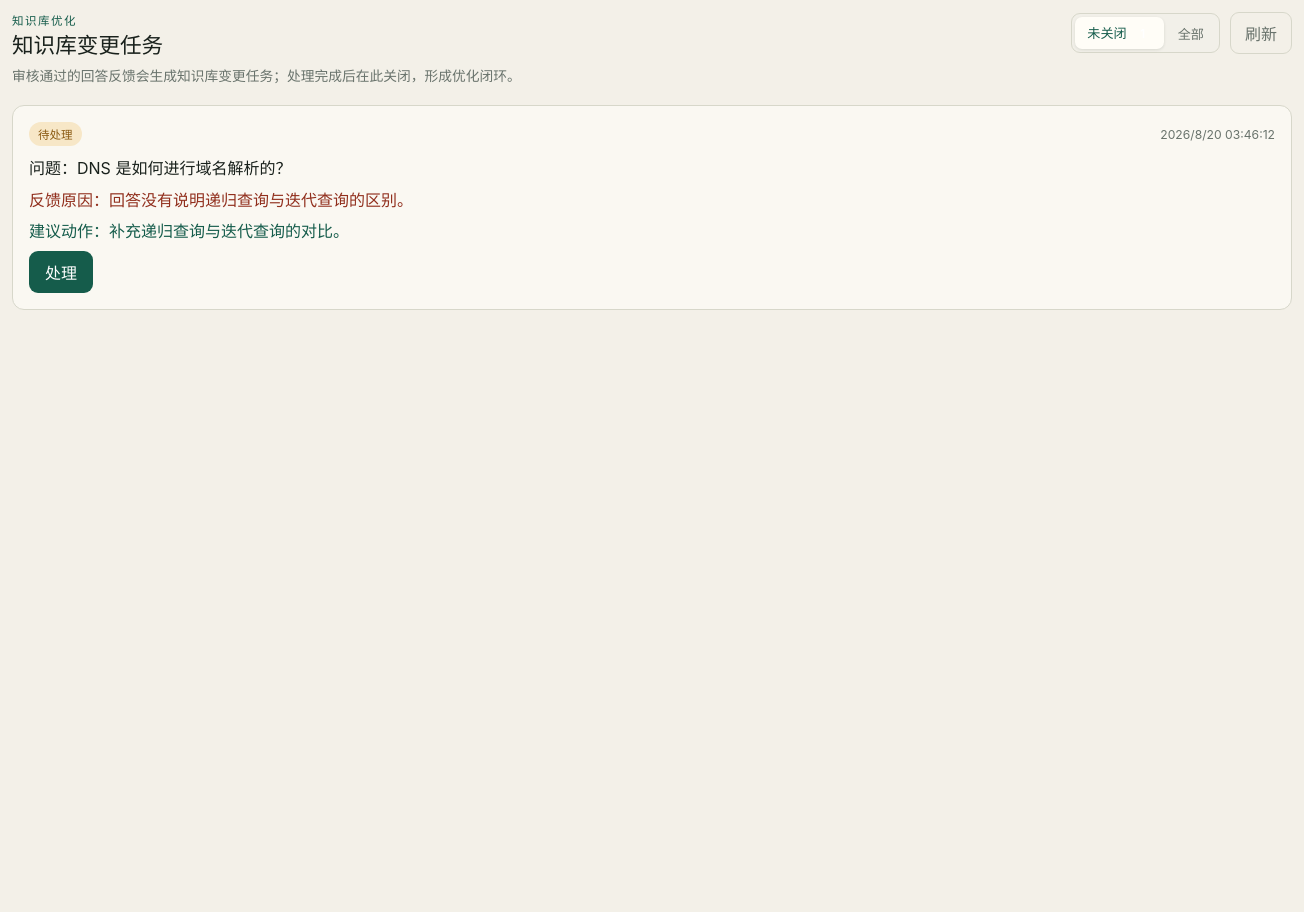
Test: KnowledgeBaseChanges › refuses wont_fix without resolution notes
What coordinates should you click on to do the following:
click the button "处理"
I would click on:
 (61, 272)
Its box is [29, 251, 93, 293].
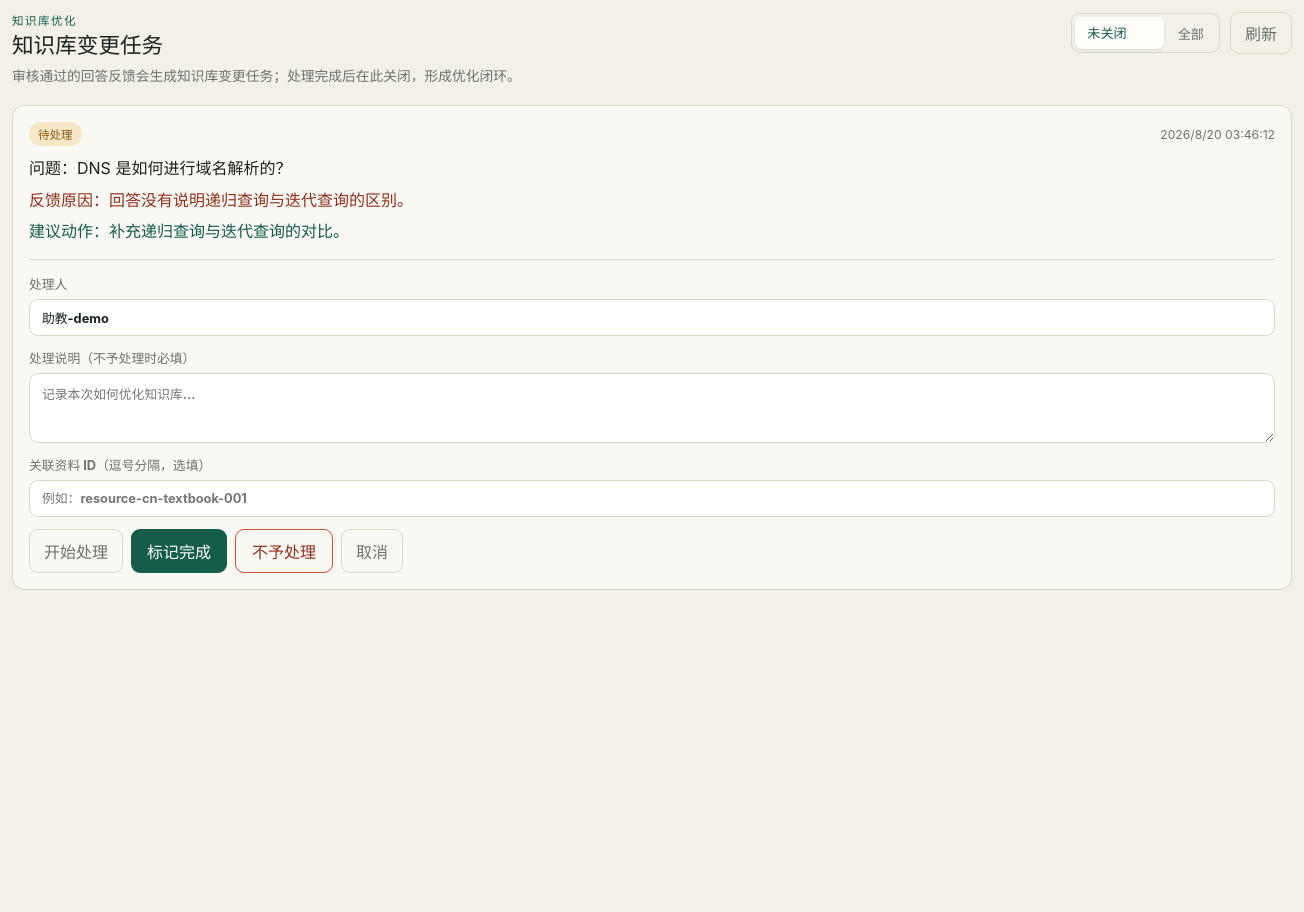
What coordinates should you click on to do the following:
click the button "不予处理"
I would click on:
 (284, 551)
Its box is [235, 529, 333, 573].
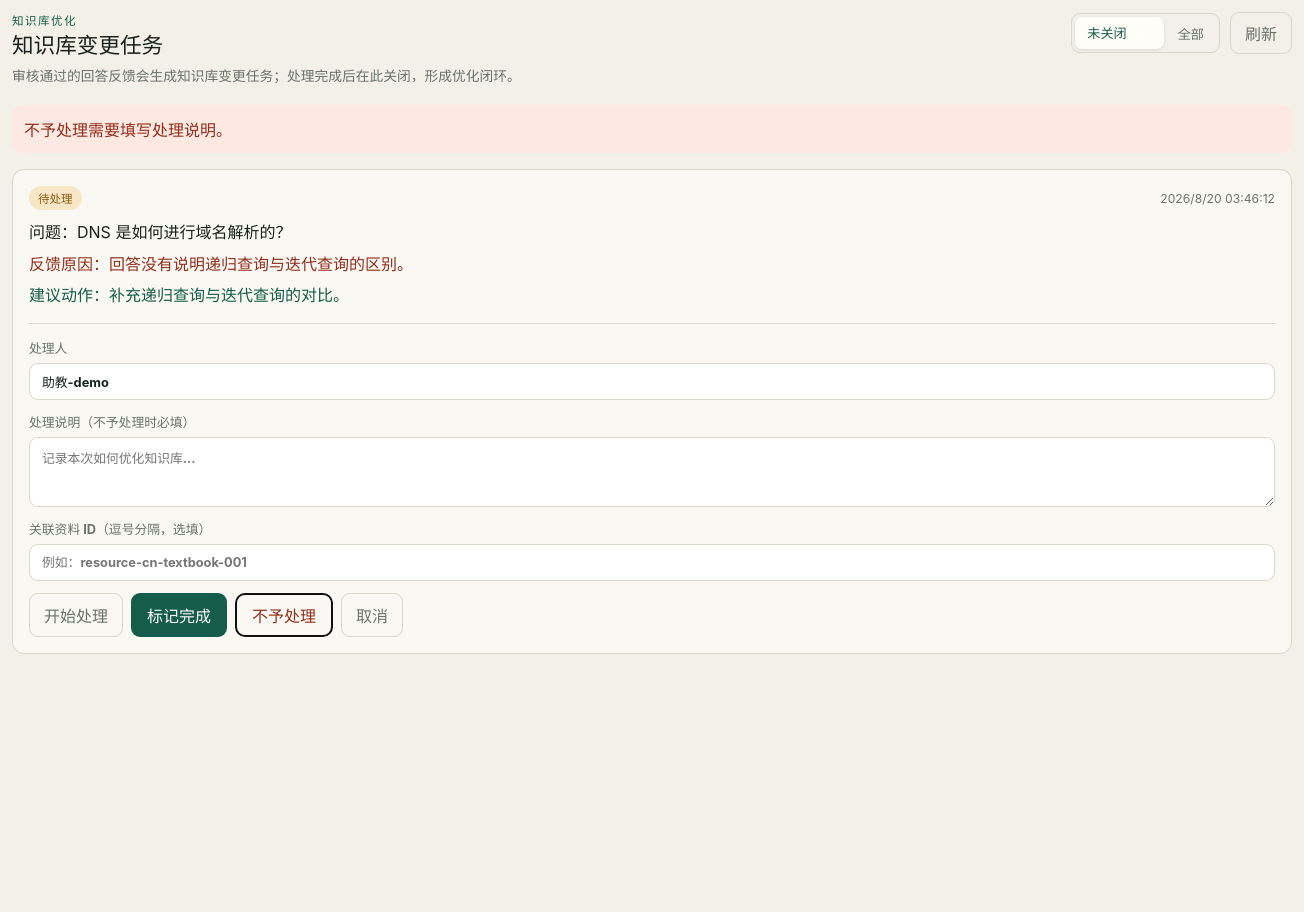
Check: the text "不予处理需要填写处理说明。" is shown, box [12, 105, 1292, 153]
